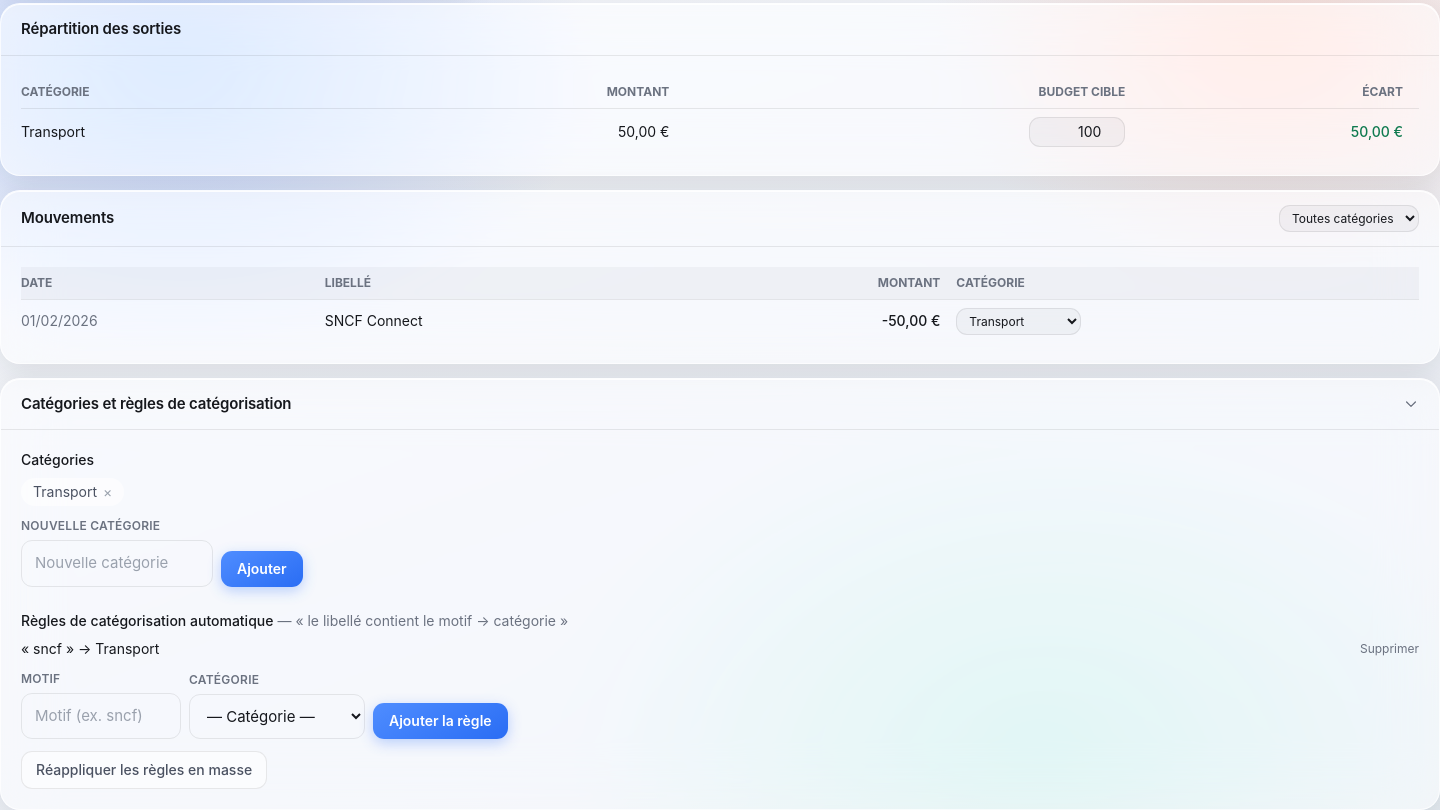
BudgetPage — catégories et règles (backlog 2.N.1) › réappliquer les règles appelle reappliquerReglesCategorisation et affiche le résultat
(page scrolled)
Check: the field with placeholder "Nouvelle catégorie" is shown, box [21,540,213,586]
What coordinates should you click on to do the following:
click the button "Réappliquer les règles en masse"
I would click on:
 (144, 770)
Its box is [21,751,267,789].
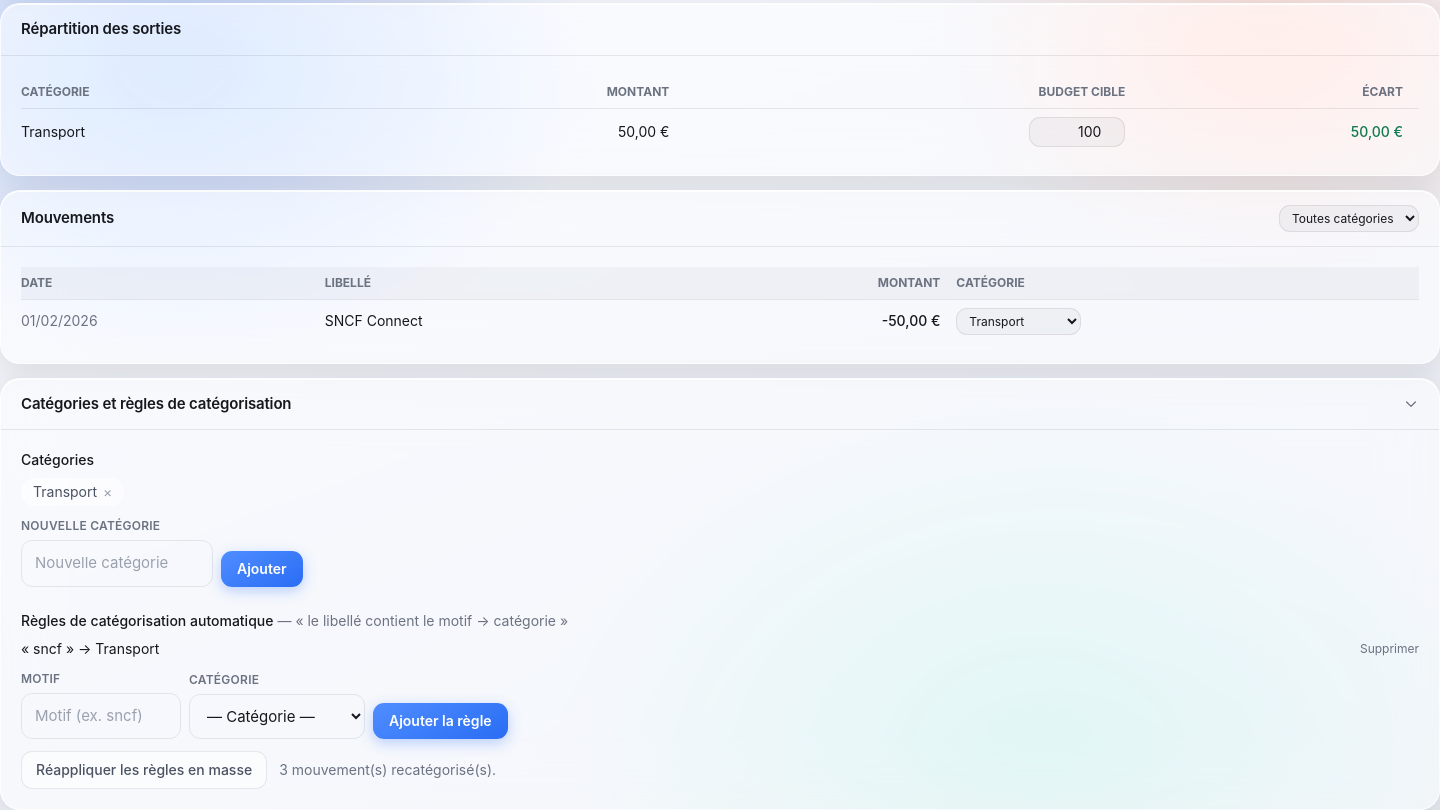
Check: the text "3 mouvement(s) recatégorisé(s)." is shown, box [279,760,496,780]
